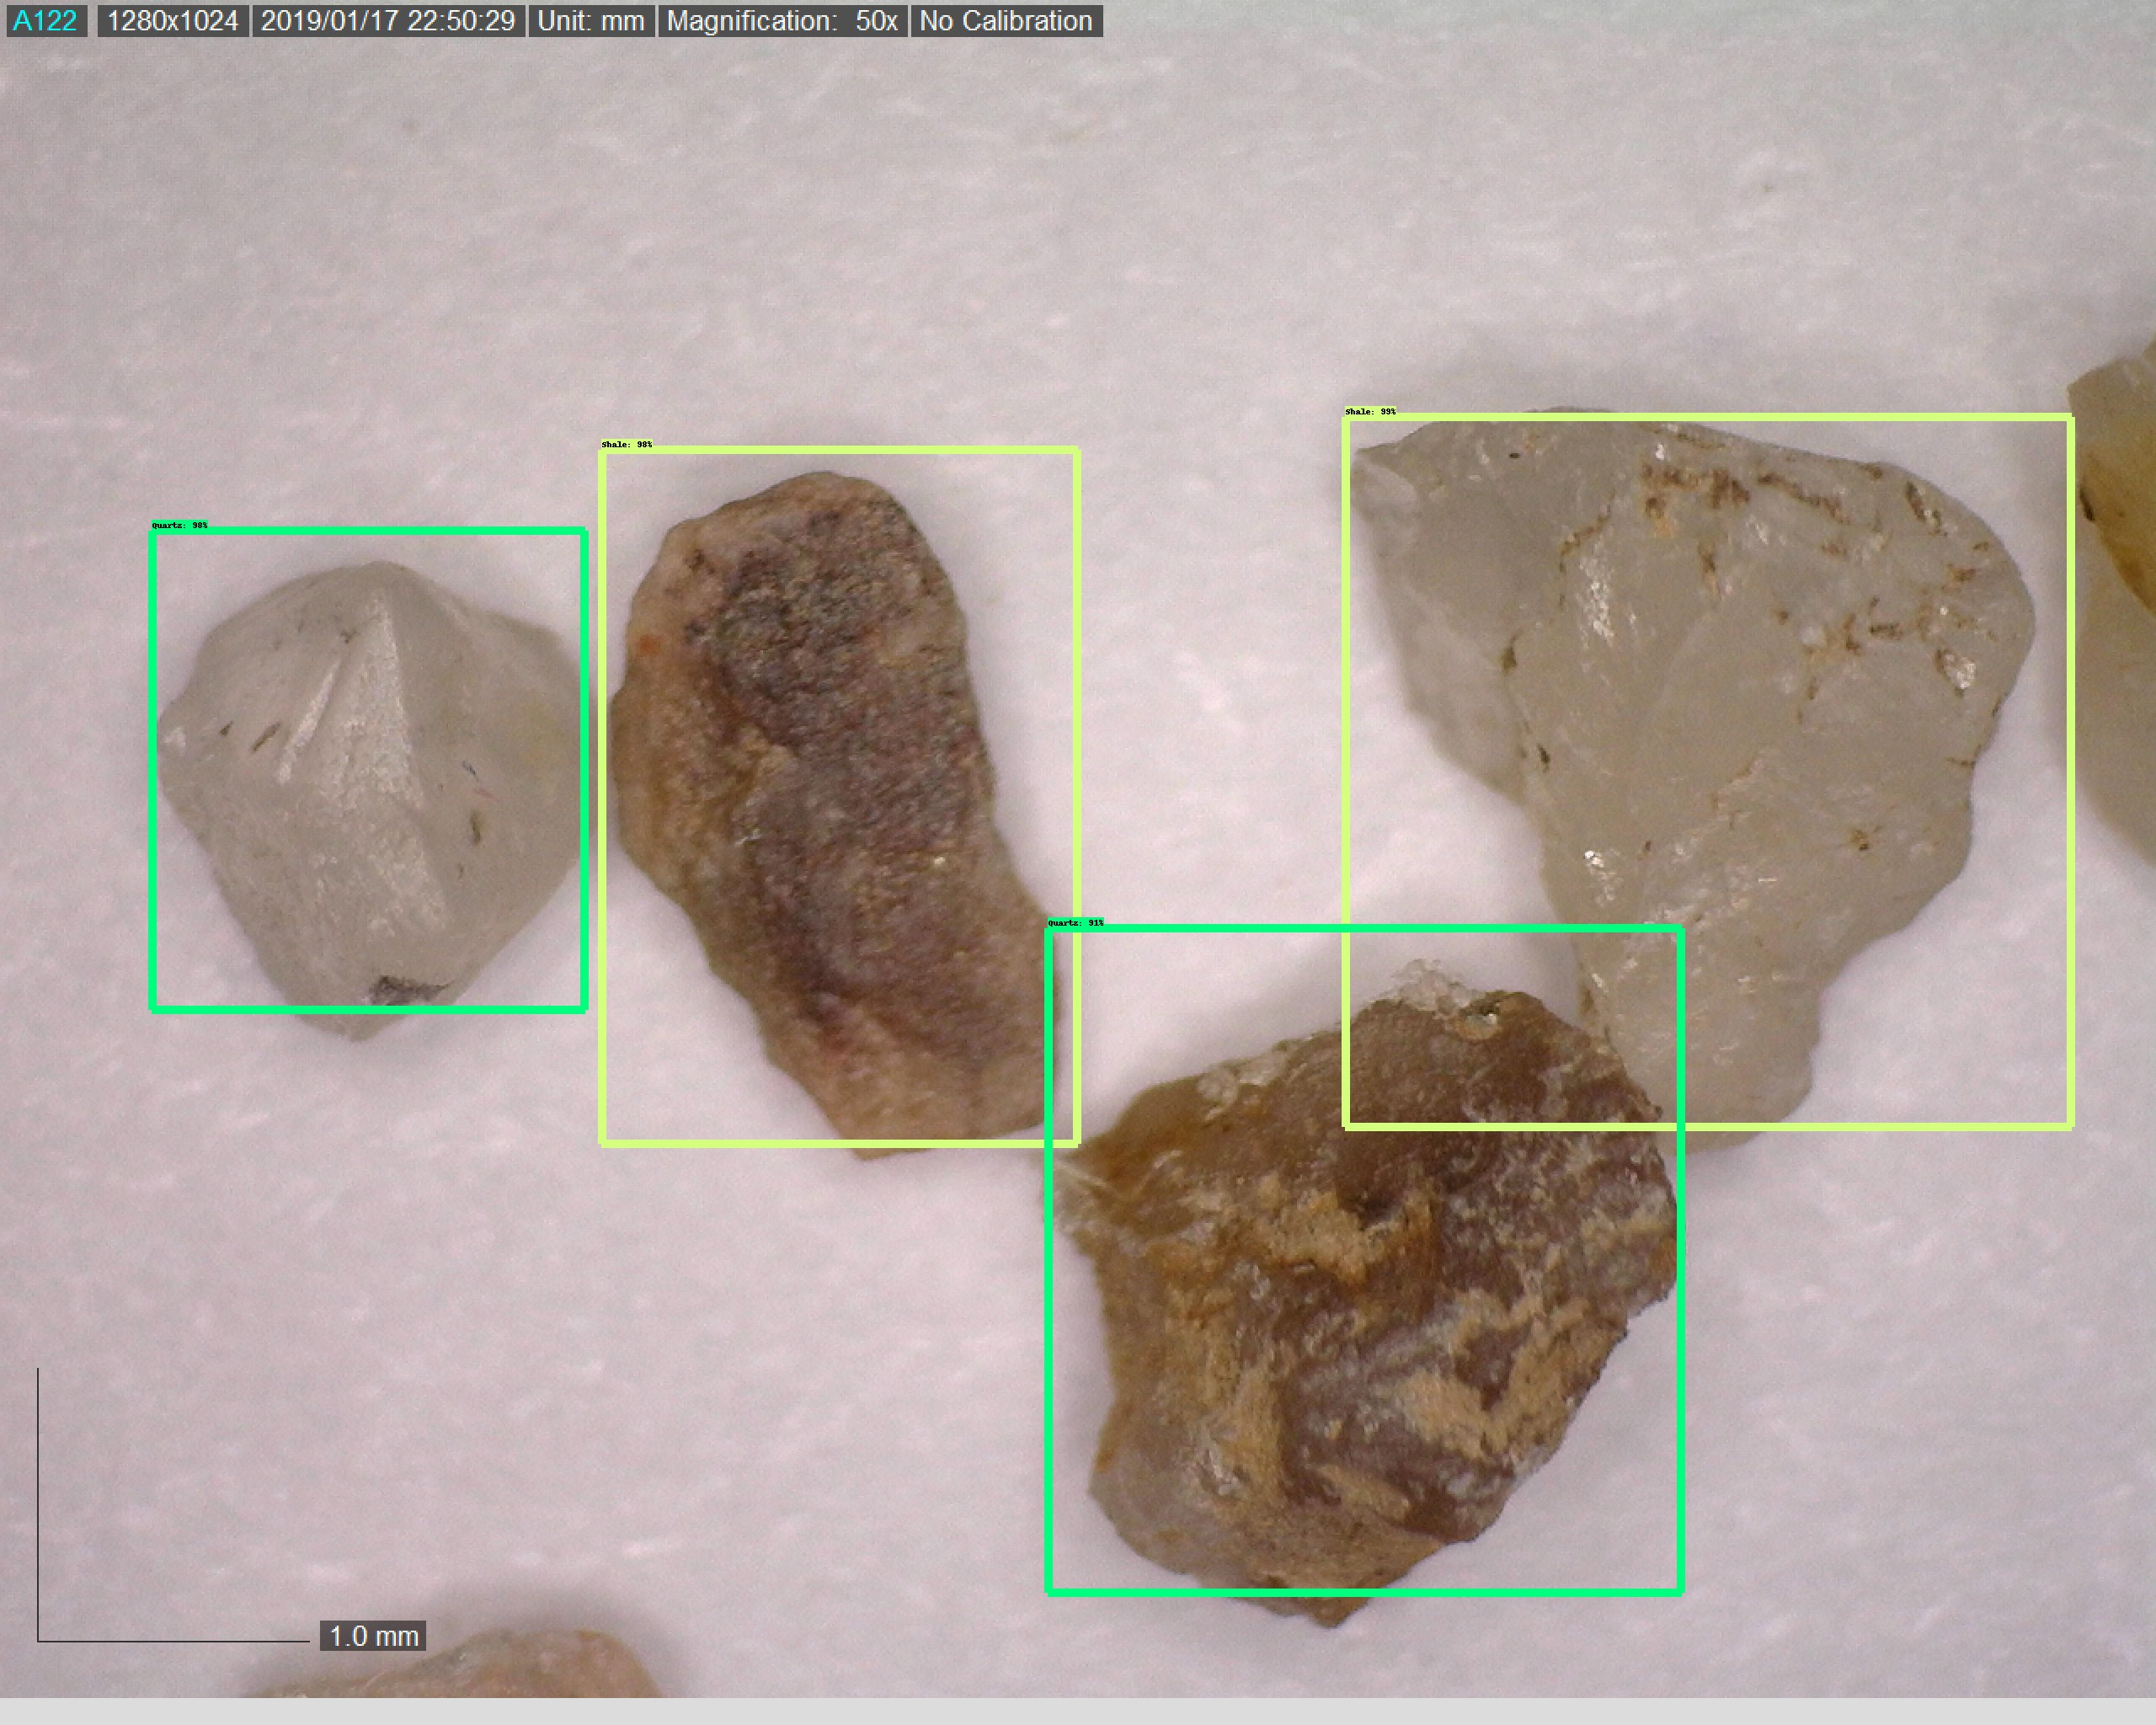Quartz: (1343, 407, 2010, 1169), (127, 540, 630, 1044)
